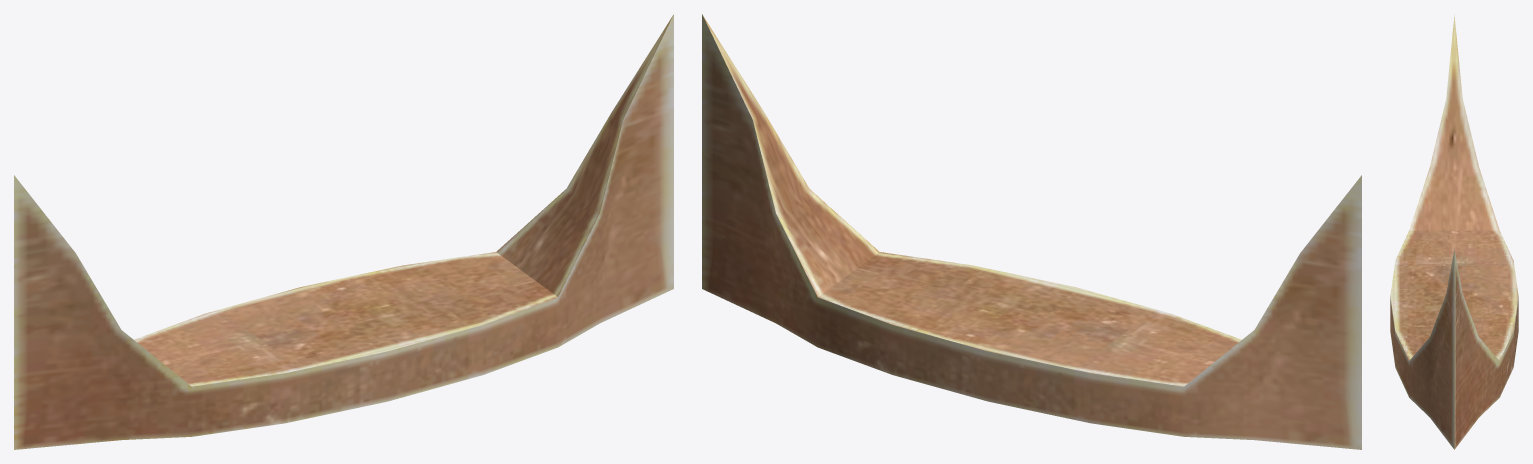
Rendered from vibro_sword2b_guard.fbx.
3 views of the same model, side by side, from view 1: azimuth 30°, elevation 25°; view 2: azimuth 150°, elevation 25°; view 3: azimuth 270°, elevation 25° (orthographic). The views are drawn at different scales.
Parts seen in each view (by area): view 1: vibro_sword2b_guard; view 2: vibro_sword2b_guard; view 3: vibro_sword2b_guard.
Part boxes in pixels (box(x1,y1,x2,y2)): vibro_sword2b_guard: box(14, 14, 673, 449); vibro_sword2b_guard: box(702, 14, 1361, 449); vibro_sword2b_guard: box(1390, 14, 1518, 449).
Bounding box in the file's own units: 11.01 × 4.38 × 2.53.
1 material, 1 textured.
